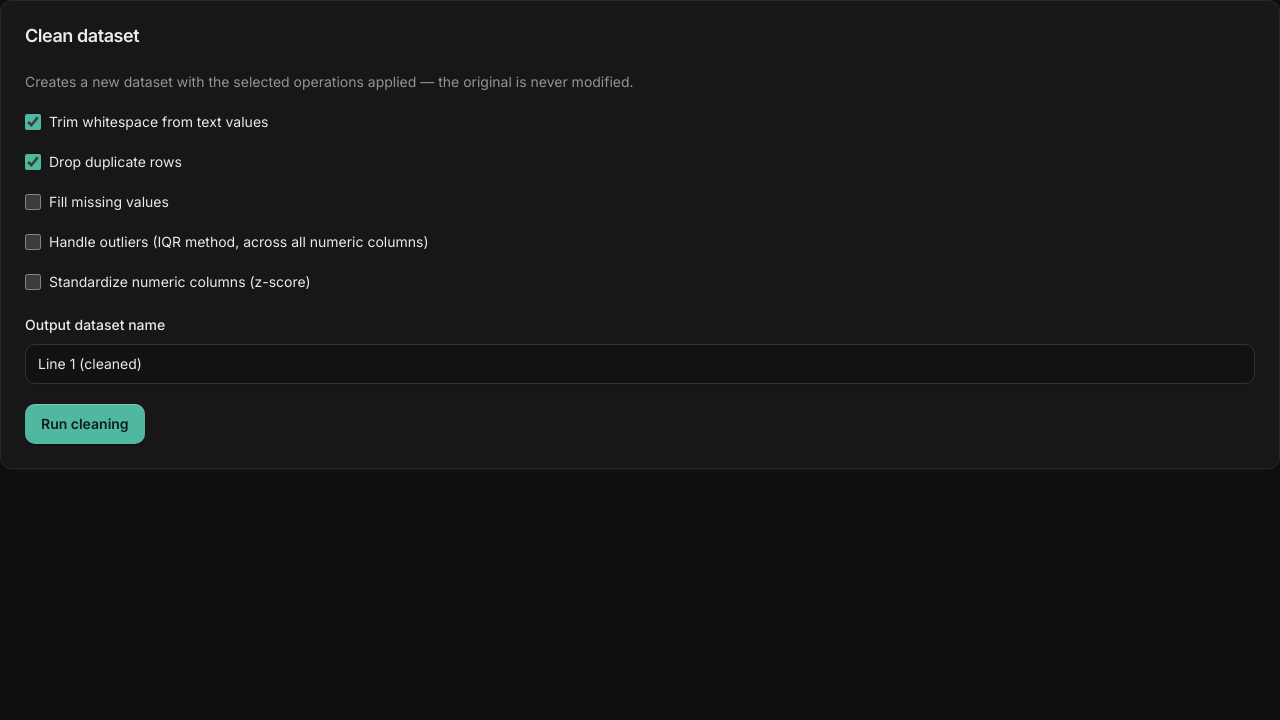
Test: CleanPanel › disables the run with no ops selected and shows server errors
This screenshot has width=1280, height=720.
Click the checkbox labelled "Trim whitespace from text values" at [33, 122], box [25,114,41,130]
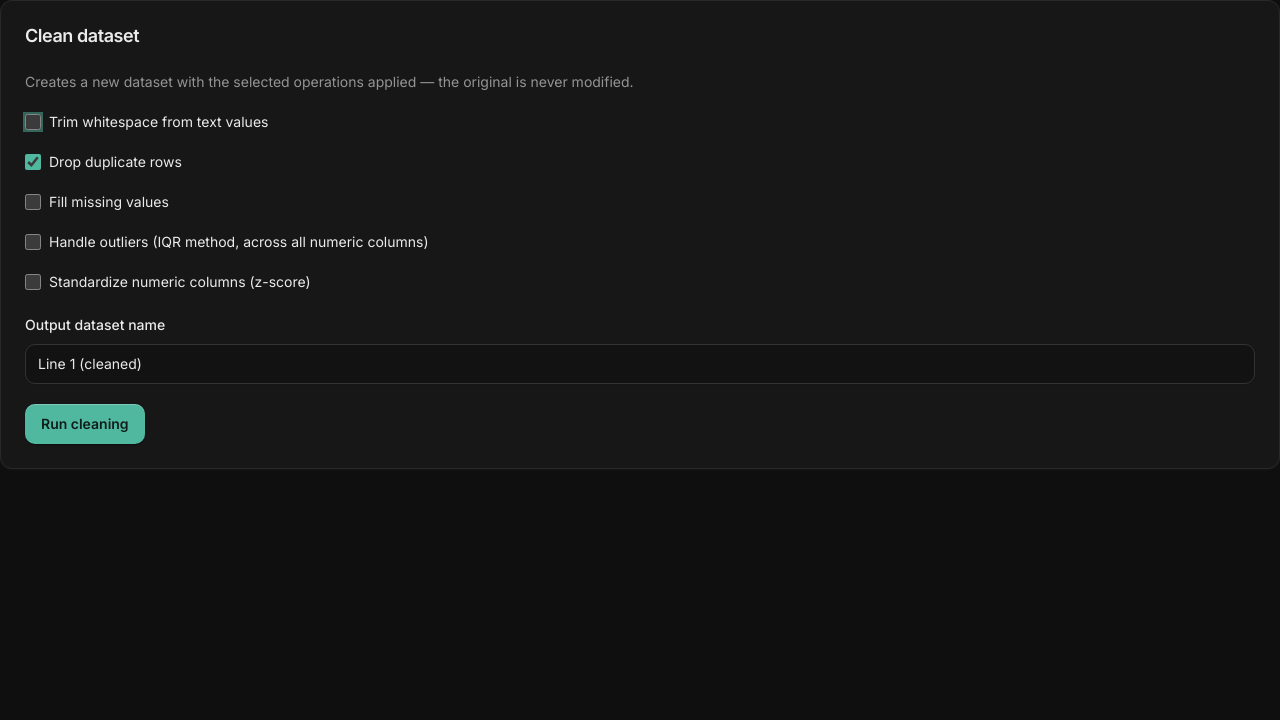
Click the checkbox labelled "Drop duplicate rows" at [33, 162], box [25,154,41,170]
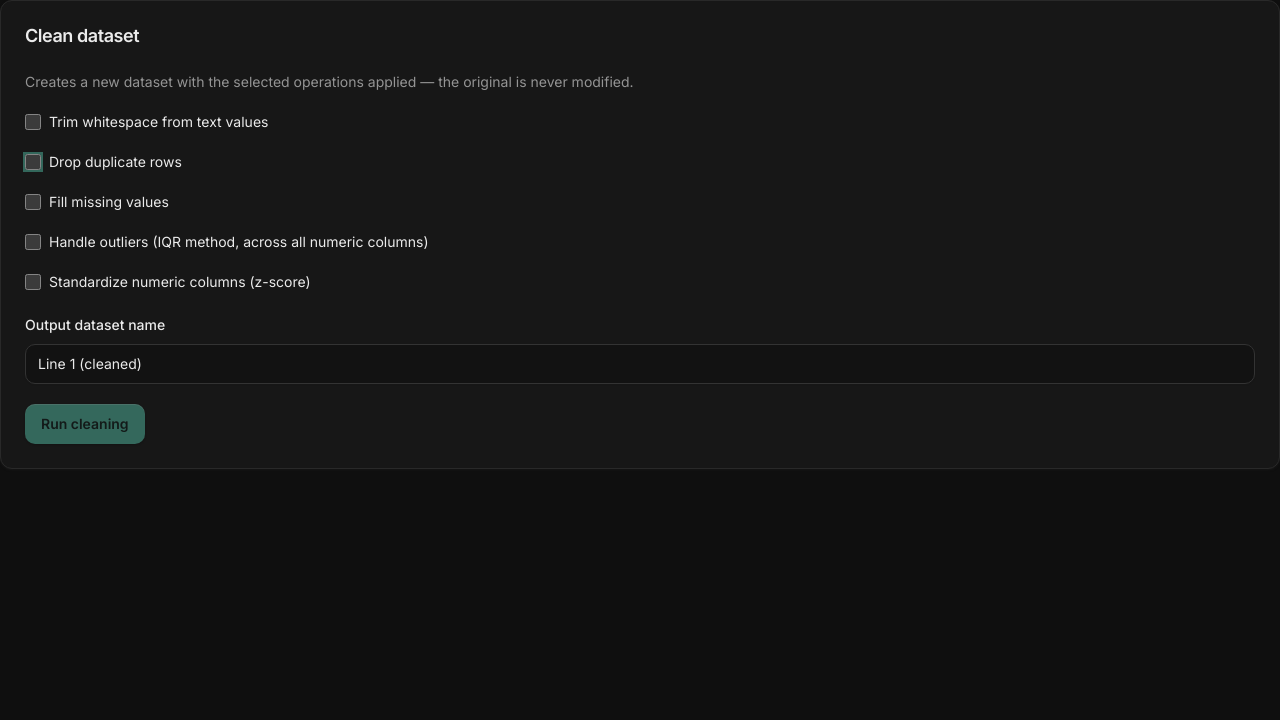
Result: the button "Run cleaning" is disabled at [25,404,145,444]
Click the checkbox labelled "Drop duplicate rows" at [33, 162], box [25,154,41,170]
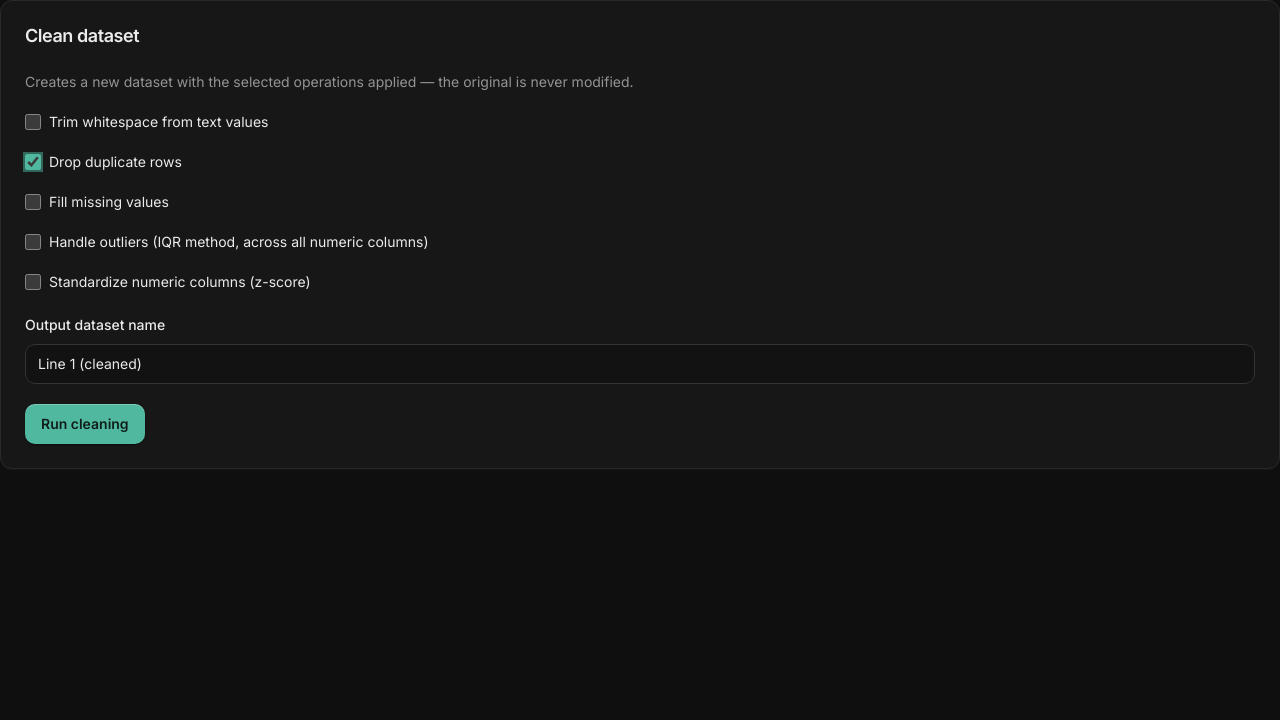
Click the button "Run cleaning" at [85, 424], box [25,404,145,444]
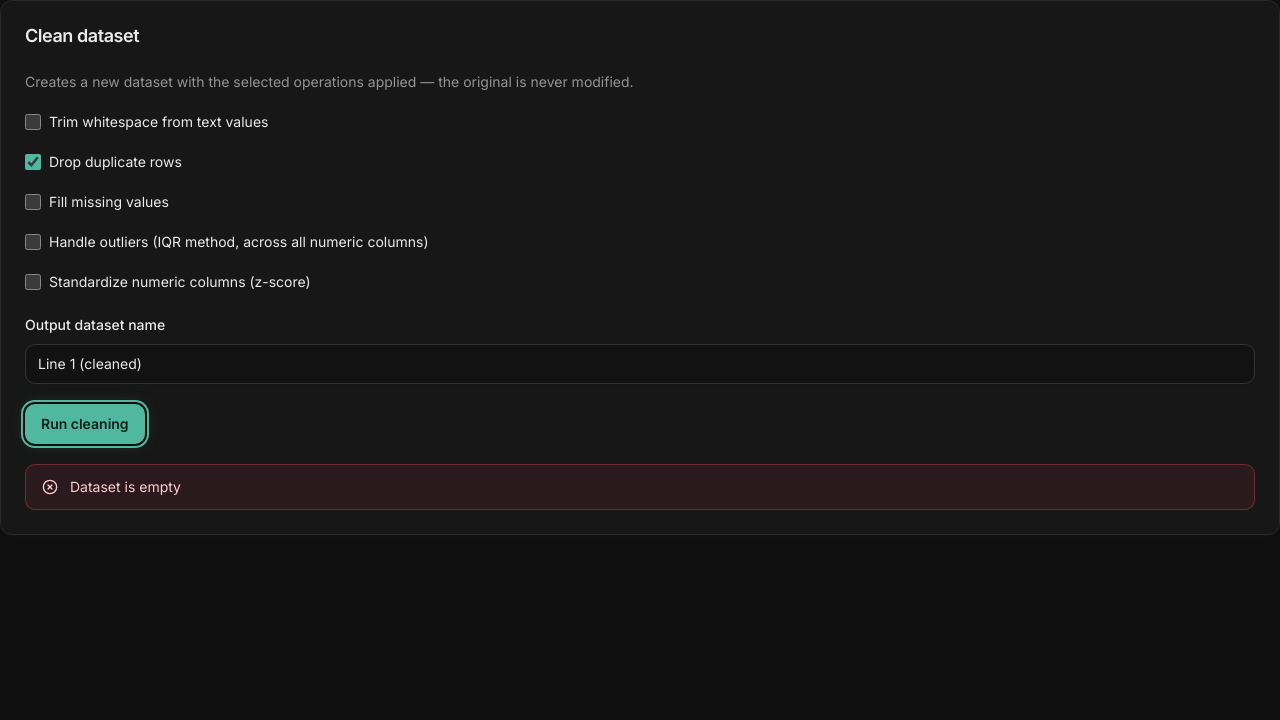
Result: the text "Dataset is empty" is shown at [70,476,181,496]
